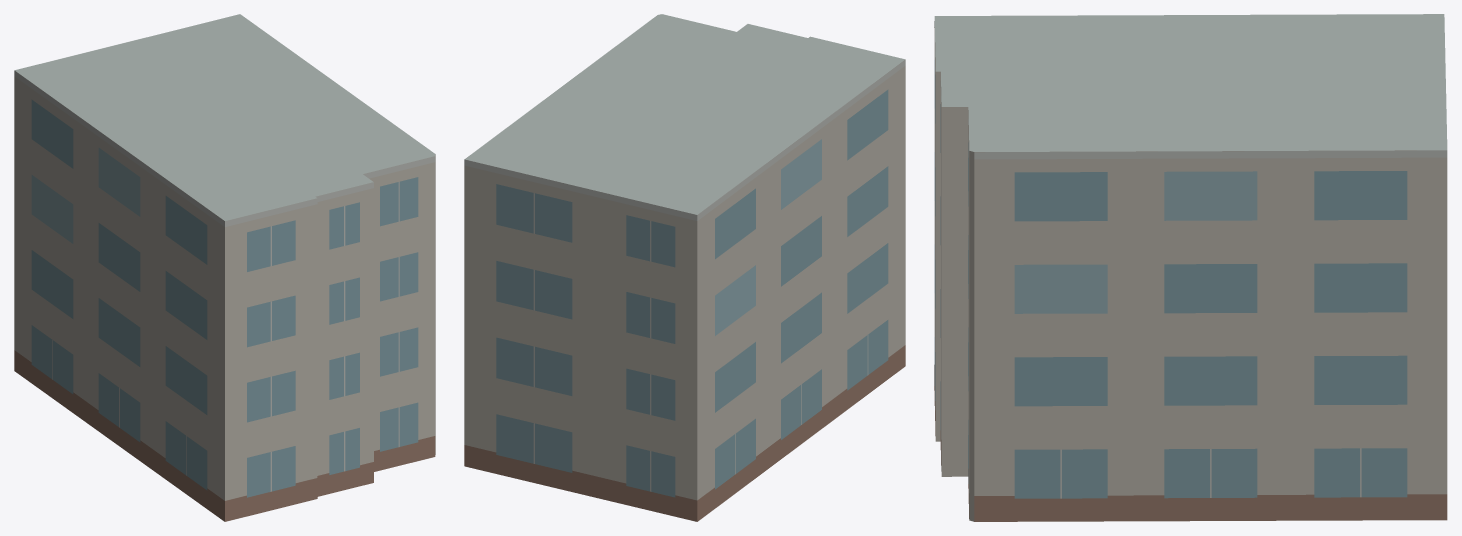
File: survey-upis-32620210.glb
3 renders of one model, left to right at view 1: azimuth 30°, elevation 25°; view 2: azimuth 150°, elevation 25°; view 3: azimuth 270°, elevation 25°, orthographic. The views are drawn at different scales.
Visible parts, largest first — view 1: survey-upis-32620210.tmp; view 2: survey-upis-32620210.tmp; view 3: survey-upis-32620210.tmp.
Part boxes in pixels (<box>): survey-upis-32620210.tmp: <box>14,14,435,521</box>; survey-upis-32620210.tmp: <box>464,14,905,521</box>; survey-upis-32620210.tmp: <box>934,14,1447,521</box>.
Size of the model in its own units: 9.78 by 12.2 by 15.35.
